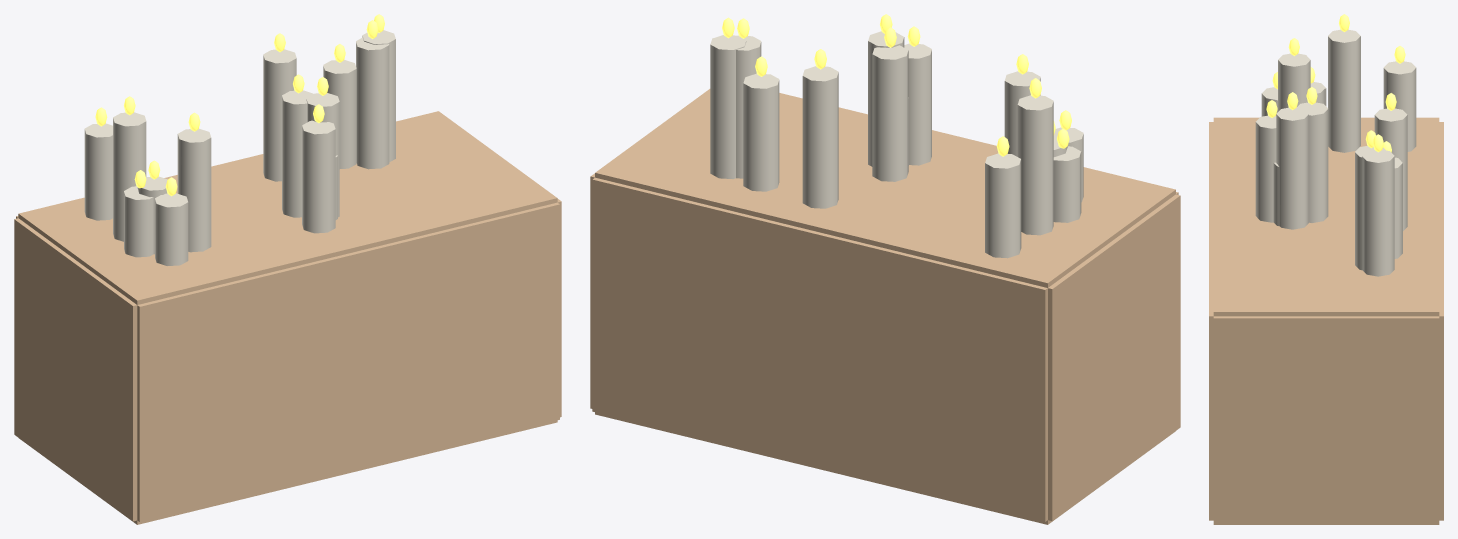
The model's file is candle_cluster.glb.
The picture shows the model from 3 angles, left to right: view 1: azimuth 30°, elevation 25°; view 2: azimuth 150°, elevation 25°; view 3: azimuth 270°, elevation 25°; orthographic projection. The views are drawn at different scales.
Parts seen in each view (by area): view 1: candle_cluster; view 2: candle_cluster; view 3: candle_cluster.
Boxes of the visible parts, x1=… form: candle_cluster: x1=14, y1=14, x2=561, y2=524; candle_cluster: x1=590, y1=14, x2=1180, y2=524; candle_cluster: x1=1209, y1=14, x2=1443, y2=524.
Size of the model in its own units: 1 by 0.8185 by 0.5.
